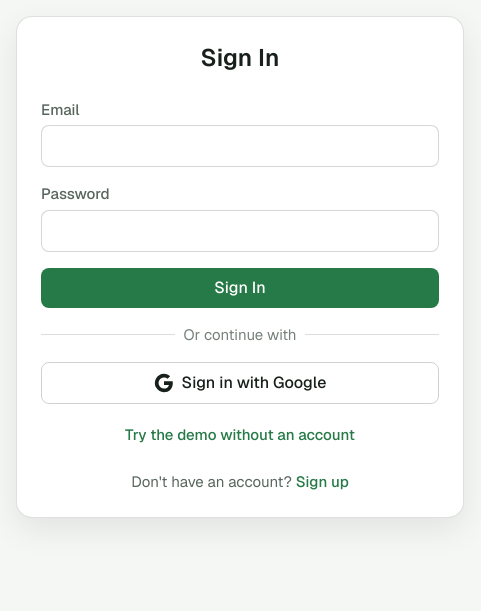
LoginForm › shows a safe authentication error and clears it when the user retries
The image size is (481, 611).
In the field labelled "Email": (240, 146) top-left (41, 125), bottom-right (439, 167), type "user@example.com"
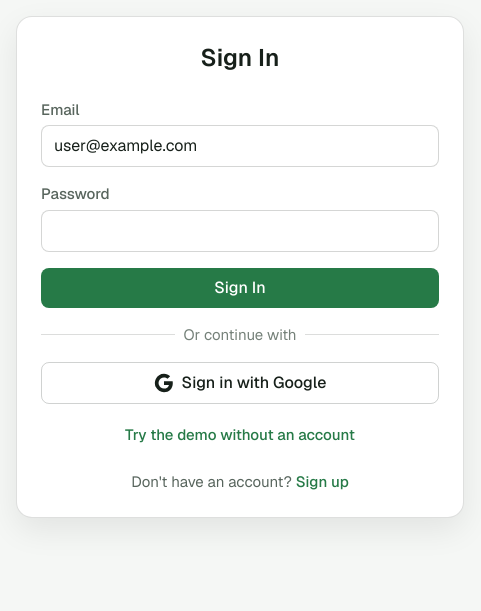
In the password field labelled "Password": (240, 231) top-left (41, 210), bottom-right (439, 252), type "password"
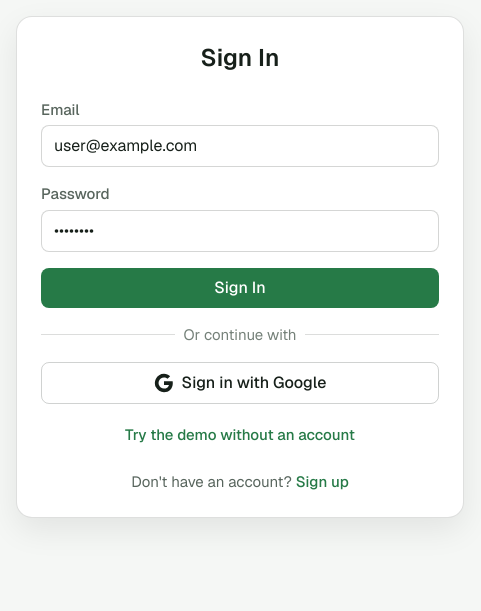
Click the button "Sign In": (240, 288) top-left (41, 268), bottom-right (439, 308)
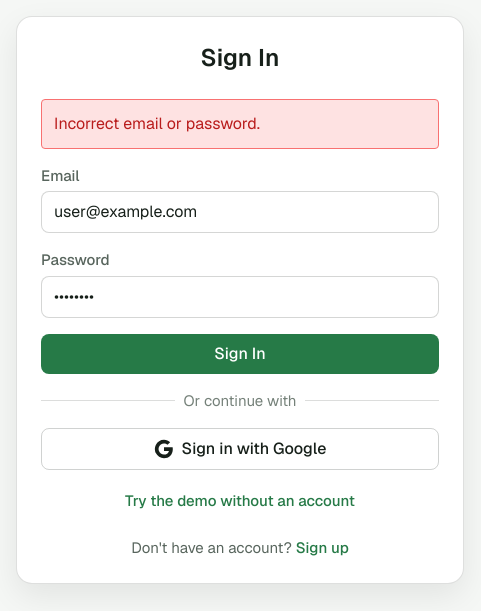
Now the message reads "Incorrect email or password.", box top-left (54, 113), bottom-right (260, 134)
Click the button "Sign In": (240, 354) top-left (41, 334), bottom-right (439, 374)
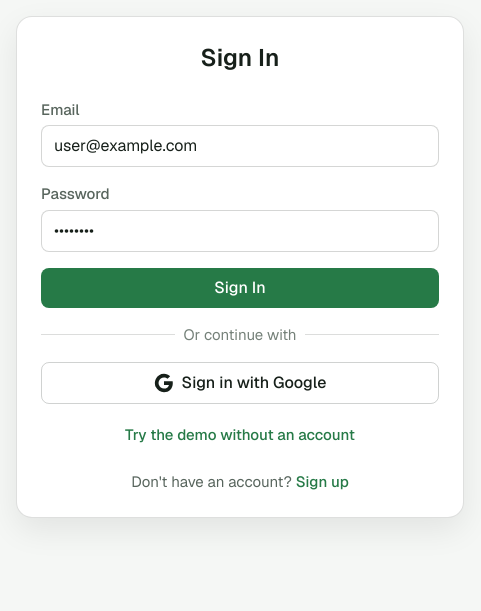
Now the message "Incorrect email or password." is gone
